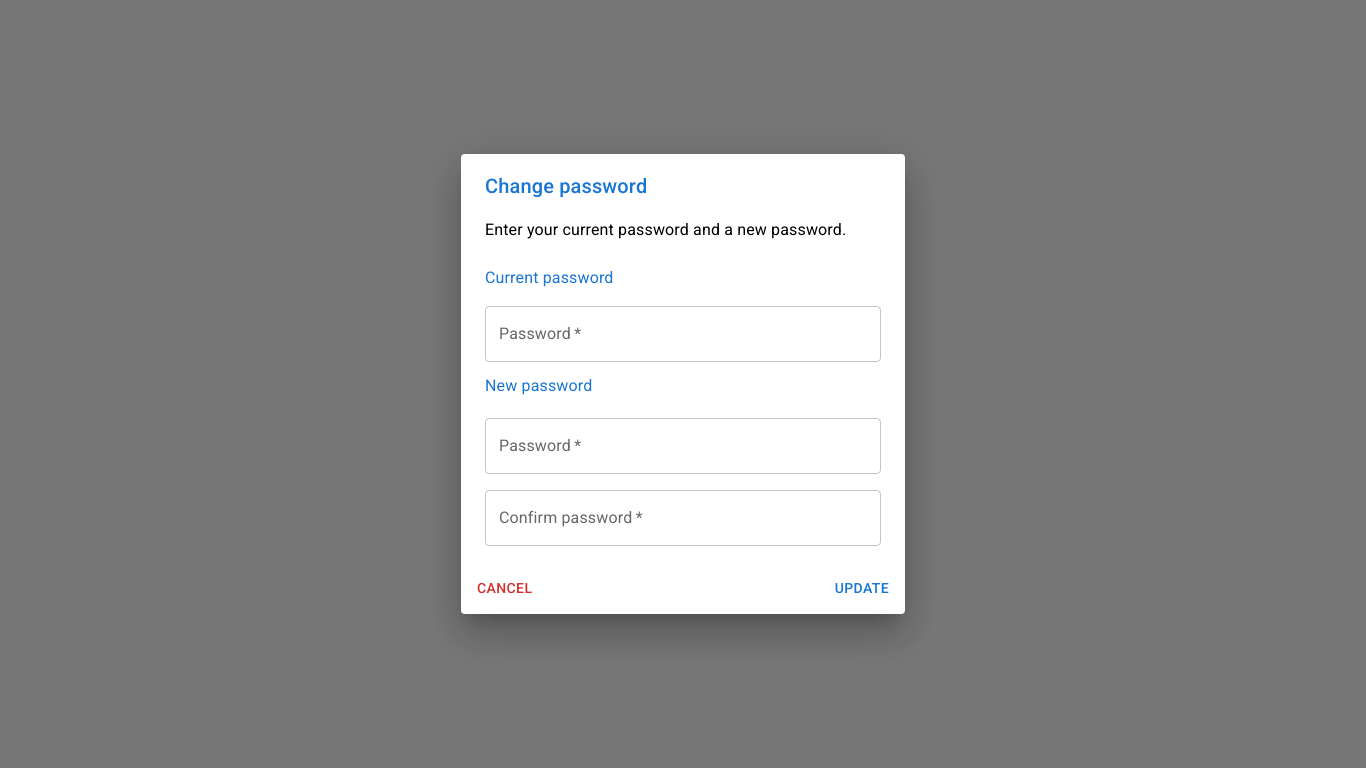
ChangePasswordDialog › should show an error message when password is invalid
Type "password" into the 1st password field labelled "Password *".
click(683, 334); type("password")  # box 485,306 -> 881,362
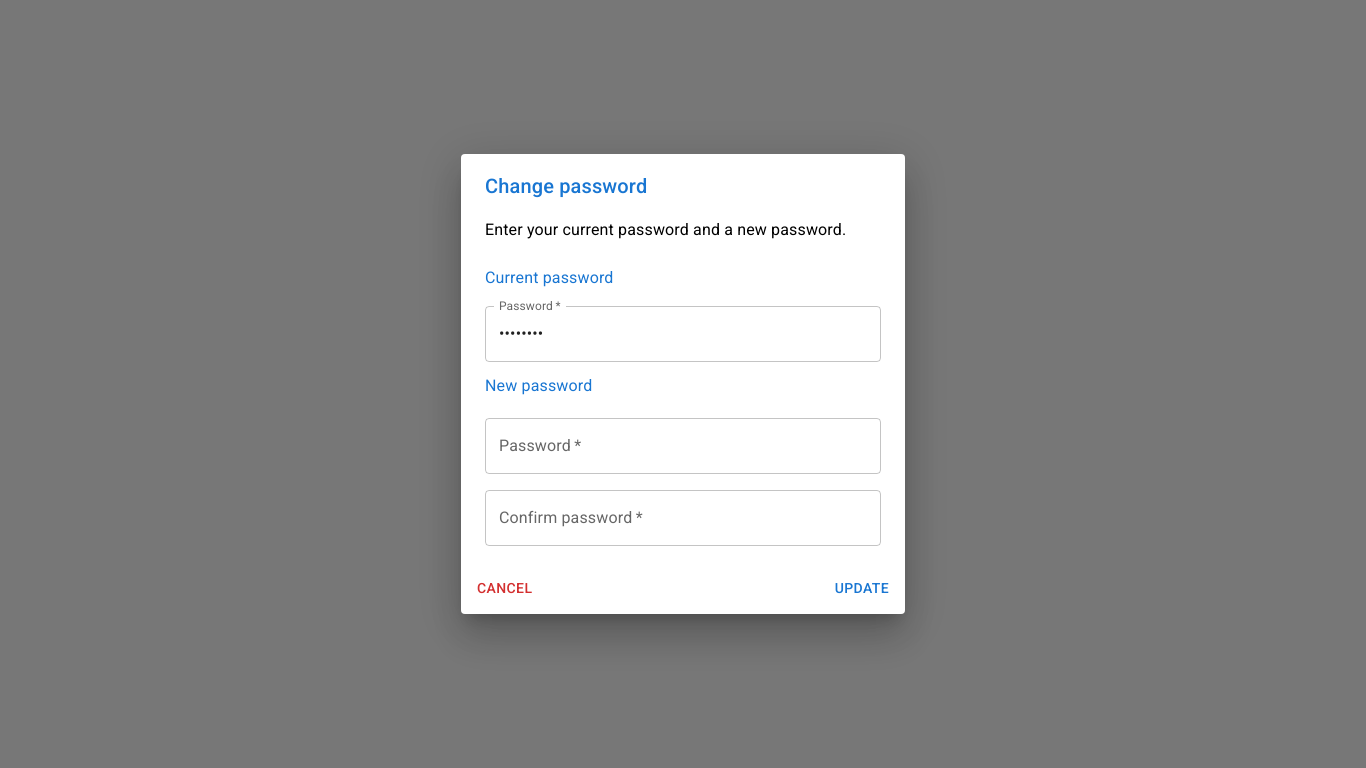
Type "NewPassword1234" into the 2nd password field labelled "Password *".
click(683, 446); type("NewPassword1234")  # box 485,418 -> 881,474
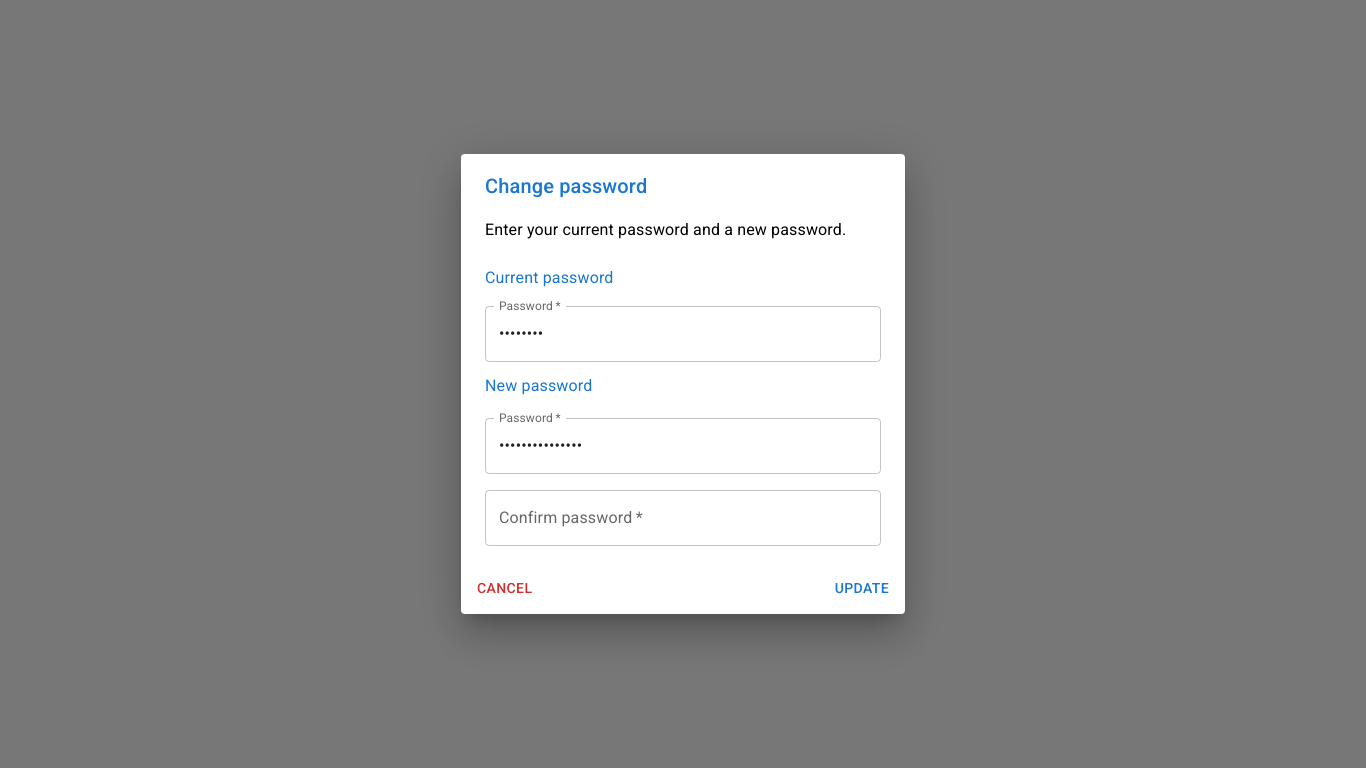
Type "NewPassword123" into the password field labelled "Confirm password *".
click(683, 518); type("NewPassword123")  # box 485,490 -> 881,546
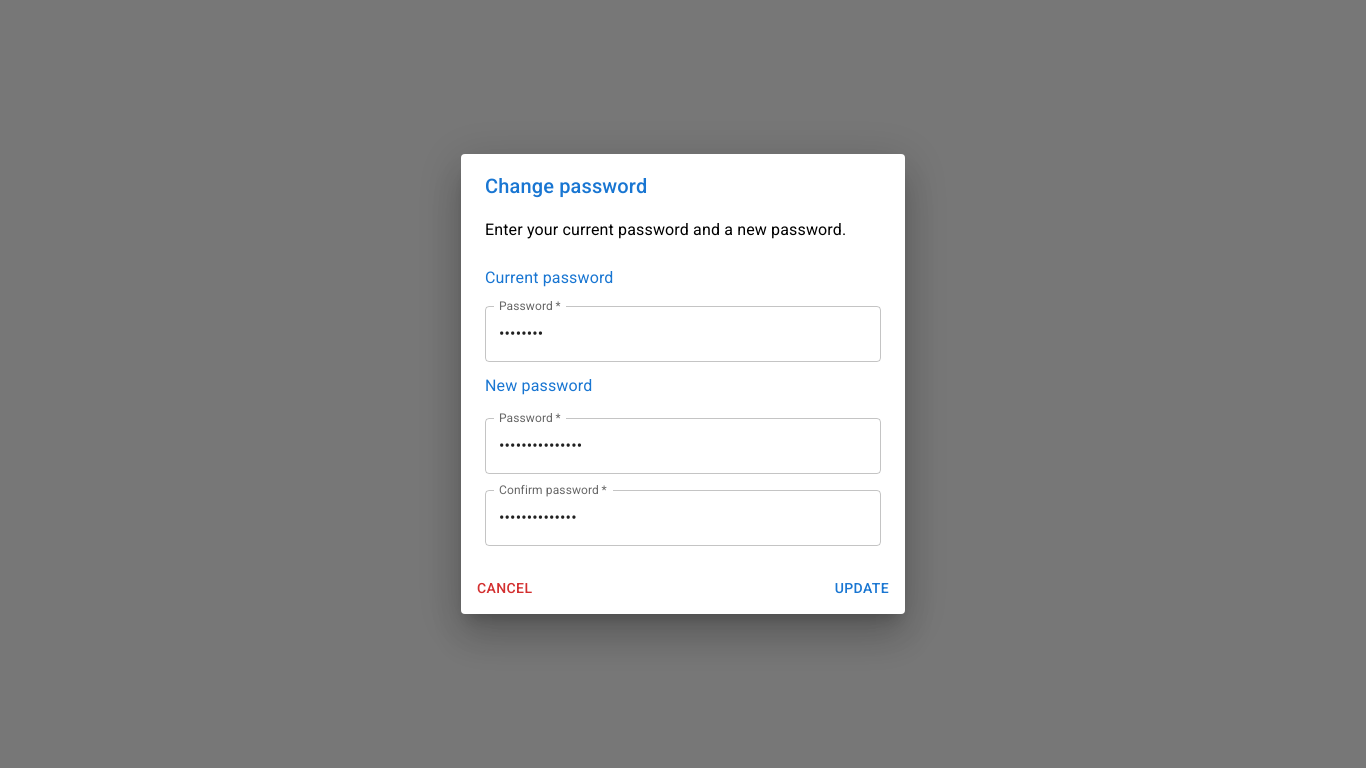
Click the button "Update".
click(862, 588)  # box 827,570 -> 897,606
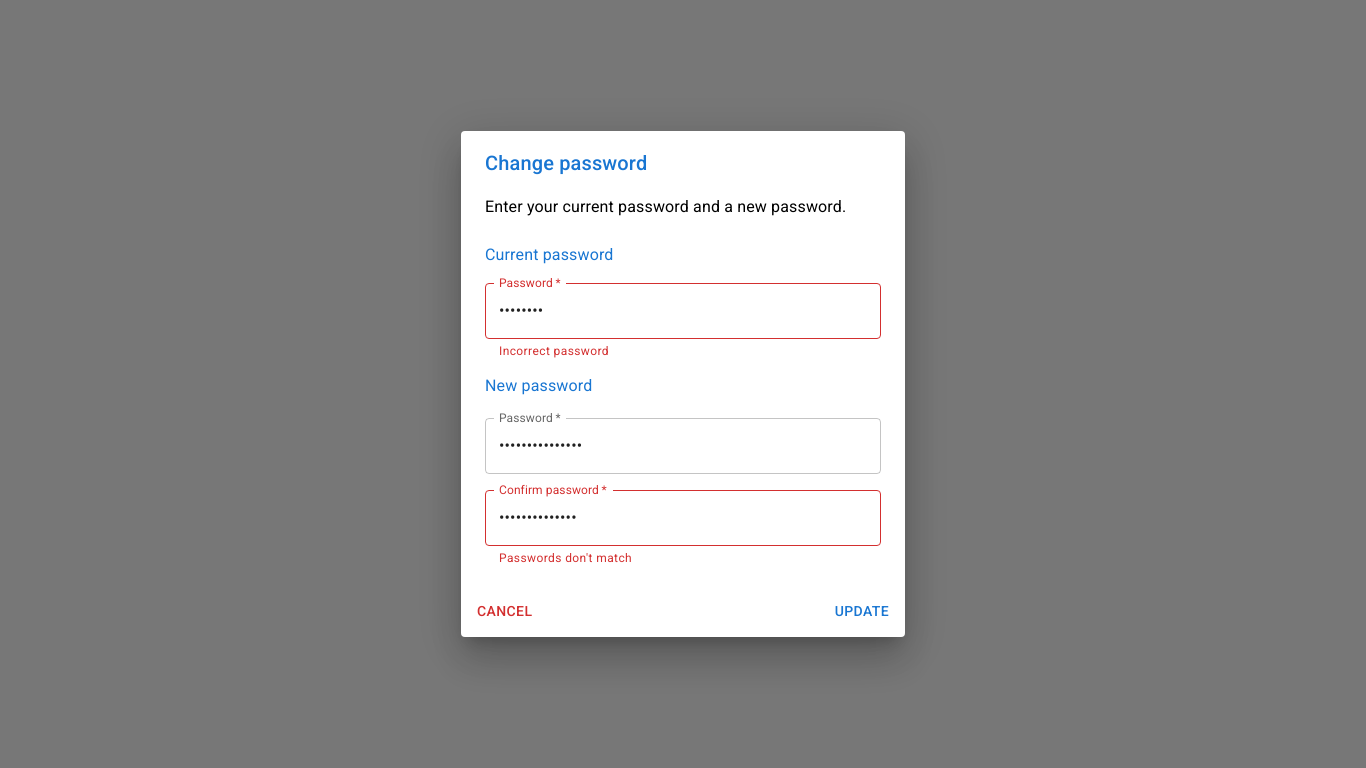
Expected: the text "Incorrect password" is shown, 499,344 -> 609,358
